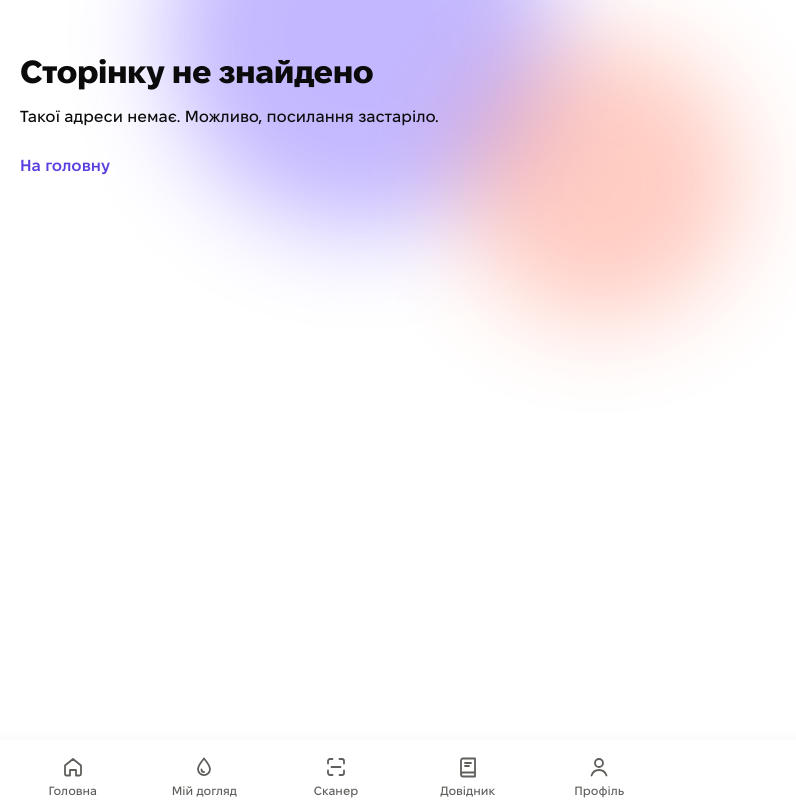
Test: app routes › shows a not-found screen with a way home for an unknown address
Check: the heading "Сторінку не знайдено" is shown, box [20,54,373,89]
What coordinates should you click on to do the following:
click the link "На головну"
I would click on:
 (65, 166)
Its box is [20,157,110,174].
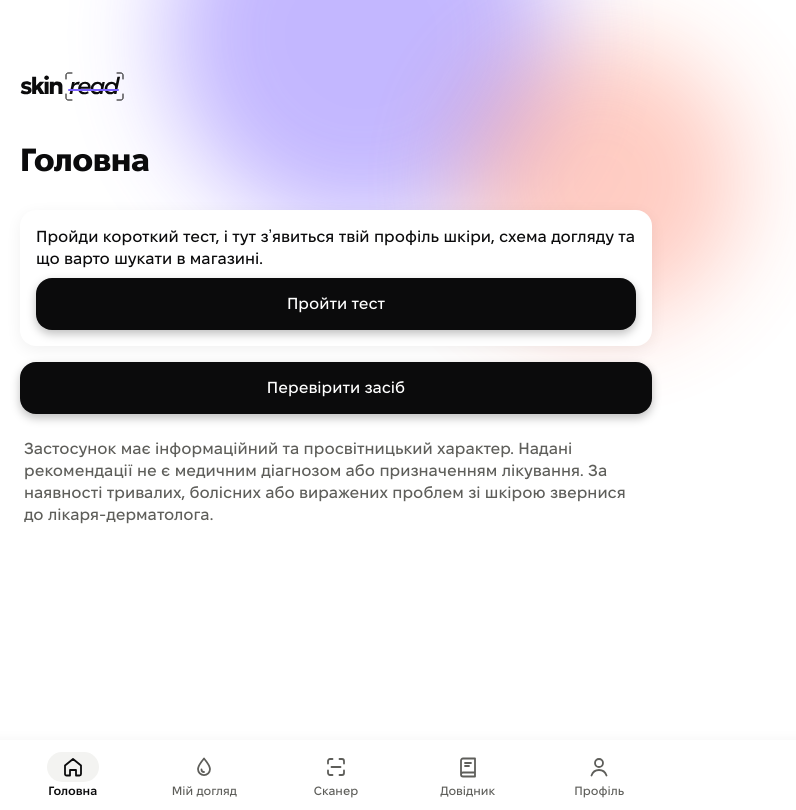
Check: the heading "Головна" is shown, box [20,142,150,177]
